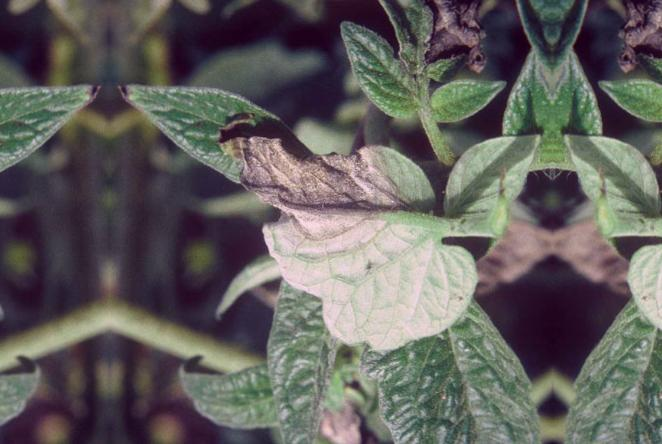Tomato leaf late blight: (125, 60, 506, 361)
